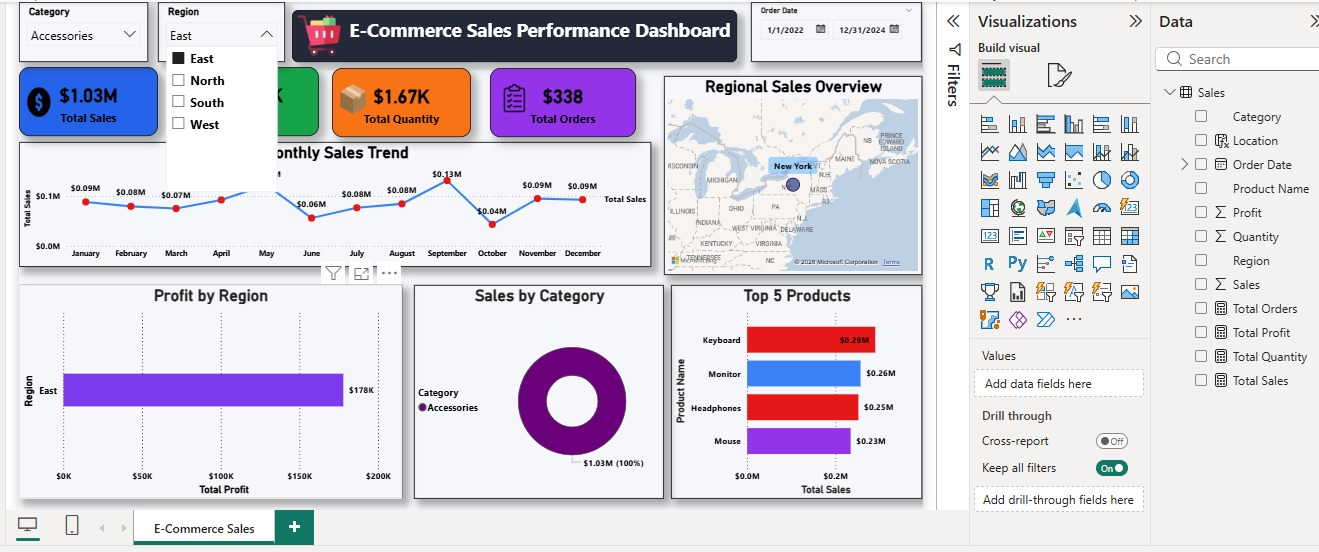

What the dashboard file says about the page in this screenshot:
{"tool":"powerbi","page":{"name":"E-Commerce Sales","canvas":[1280,720],"ordinal":0},"visuals":[{"type":"card","fields":{"Values":["Sales.Total Sales"]},"box":[0,92.1,197,97.8],"z":0},{"type":"textbox","box":[386.9,11.3,630.7,73.7],"z":1000},{"type":"card","fields":{"Values":["Sales.Total Profit"]},"box":[214,92.1,211.2,97.8],"z":2000},{"type":"card","fields":{"Values":["Sales.Total Quantity"]},"box":[443.6,93.5,197,97.8],"z":3000},{"type":"card","fields":{"Values":["Sales.Total Orders"]},"box":[667.6,93.5,206.9,97.8],"z":4000},{"type":"lineChart","title":" Monthly Sales Trend","fields":{"Y":["Sales.Total Sales"],"Category":["Sales.Order Date.Variation.Date Hierarchy.Month"]},"box":[0,198.4,895.7,177.2],"z":5000},{"type":"donutChart","title":"Sales by Category","fields":{"Y":["Sales.Total Sales"],"Category":["Sales.Category"]},"box":[559.8,401.1,354.3,303.3],"z":6000},{"type":"clusteredBarChart","title":"Profit by Region","fields":{"Category":["Sales.Region"],"Y":["Sales.Total Profit"]},"box":[0,401.1,542.8,303.3],"z":7000},{"type":"clusteredBarChart","title":"Top 5 Products ","fields":{"Category":["Sales.Product Name"],"Y":["Sales.Total Sales"]},"box":[924.1,401.1,355.7,303.3],"z":8000},{"type":"slicer","fields":{"Values":["Sales.Region"]},"box":[197,0,180,85],"z":9000},{"type":"slicer","fields":{"Values":["Sales.Category"]},"box":[0,0,182.8,85],"z":10000},{"type":"slicer","fields":{"Values":["Sales.Order Date"]},"box":[1037.5,0,242.4,85],"z":11000},{"type":"map","title":"Regional Sales Overview","fields":{"Category":["Sales.Location"],"Size":["Sales.Total Sales"]},"box":[914.2,104.9,365.7,282],"z":12000},{"type":"image","box":[223.9,113.4,36.9,46.8],"z":13000},{"type":"image","box":[5.7,113.4,45.4,56.7],"z":14000},{"type":"image","box":[455,116.2,36.9,42.5],"z":15000},{"type":"image","box":[683.1,116.2,38.3,39.7],"z":16000},{"type":"image","box":[377,17,96.4,60.9],"z":17000}]}

Visuals, with their boxes on the page's 1280x720 design canvas (x1, y1, x2, y2). These are canvas units, not pixel positions in the 1319x552 screenshot, which may show the page scaled, cropped or inside an application window:
card - Sales.Total Sales: 0,92,197,190
textbox: 387,11,1018,85
card - Sales.Total Profit: 214,92,425,190
card - Sales.Total Quantity: 444,94,641,191
card - Sales.Total Orders: 668,94,874,191
" Monthly Sales Trend" lineChart: 0,198,896,376
"Sales by Category" donutChart: 560,401,914,704
"Profit by Region" clusteredBarChart: 0,401,543,704
"Top 5 Products " clusteredBarChart: 924,401,1280,704
slicer - Sales.Region: 197,0,377,85
slicer - Sales.Category: 0,0,183,85
slicer - Sales.Order Date: 1038,0,1280,85
"Regional Sales Overview" map: 914,105,1280,387
image: 224,113,261,160
image: 6,113,51,170
image: 455,116,492,159
image: 683,116,721,156
image: 377,17,473,78
